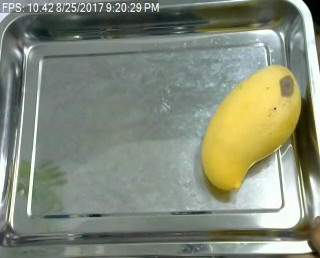Mango: (203, 60, 305, 193)
